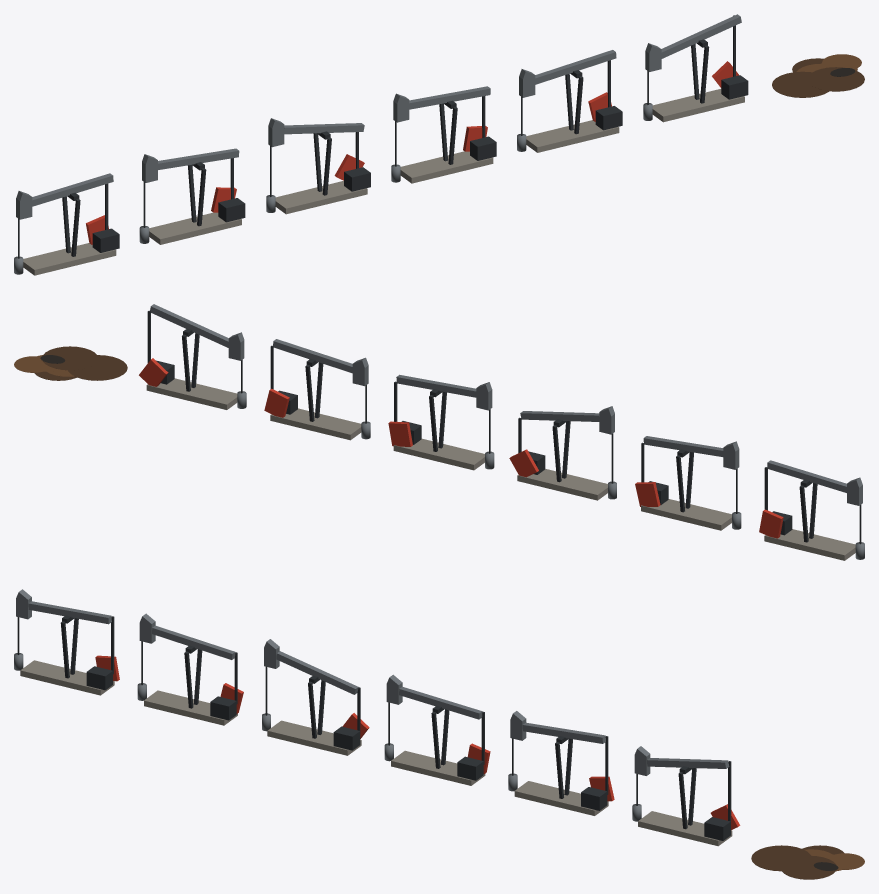
The model's file is pocos.glb.
3 renders of one model, top to bottom at view 1: azimuth 30°, elevation 25°; view 2: azimuth 150°, elevation 25°; view 3: azimuth 330°, elevation 25°, orthographic.
Visible parts, largest first — view 1: base, base.002, base.001, base.005, base.004, base.003, chao_terra.006, chao_terra.003, balancim, balancim.001, balancim.005, balancim.002 (+8 smaller); view 2: base, base.001, base.003, base.005, base.002, base.004, chao_terra.006, chao_terra.003, balancim, balancim.001, balancim.005, balancim.002 (+7 smaller); view 3: base.003, base, base.005, base.001, base.002, base.004, chao_terra.006, chao_terra.003, balancim.003, balancim.004, balancim.002, balancim.005 (+2 smaller).
Part boxes in pixels (x1,y1,x2,y2): base: (652,89,744,122); base.002: (400,151,493,183); base.001: (526,120,619,152); base.005: (23,243,116,275); base.004: (149,212,241,244); base.003: (275,181,367,214); chao_terra.006: (807,67,864,91); chao_terra.003: (772,71,829,97); balancim: (661,14,741,58); balancim.001: (535,50,616,84); balancim.005: (32,173,113,206); balancim.002: (409,86,490,109); base: (146,378,237,409); base.001: (270,408,361,440); base.003: (517,469,607,500); base.005: (764,529,855,560); base.002: (393,438,484,470); base.004: (641,499,731,530); chao_terra.006: (42,346,98,370); chao_terra.003: (68,355,127,380); balancim: (150,304,228,347); balancim.001: (273,339,352,373); balancim.005: (767,460,846,492); balancim.002: (396,374,476,397); base.003: (267,720,361,755); base: (638,811,732,846); base.005: (20,660,114,695); base.001: (514,781,608,815); base.002: (391,750,485,785); base.004: (144,690,237,725); chao_terra.006: (780,855,836,879); chao_terra.003: (751,845,810,871); balancim.003: (276,651,358,694); balancim.004: (152,625,235,659); balancim.002: (399,686,482,719); balancim.005: (28,601,111,624).
Bounding box in the file's own units: 81.48 × 8.31 × 6.98.
